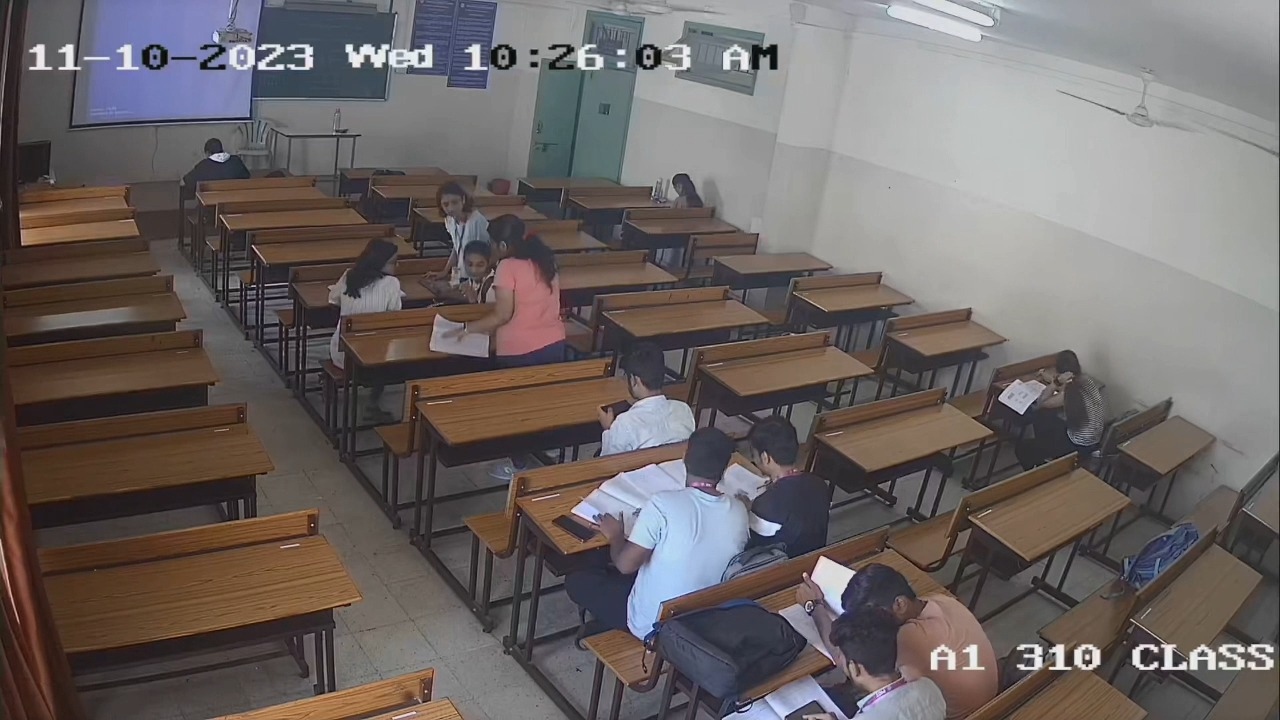cell-phones: (551, 513, 597, 544), (781, 698, 829, 720), (599, 398, 634, 420)
person: (627, 427, 751, 602), (814, 604, 951, 720), (600, 338, 696, 447)
